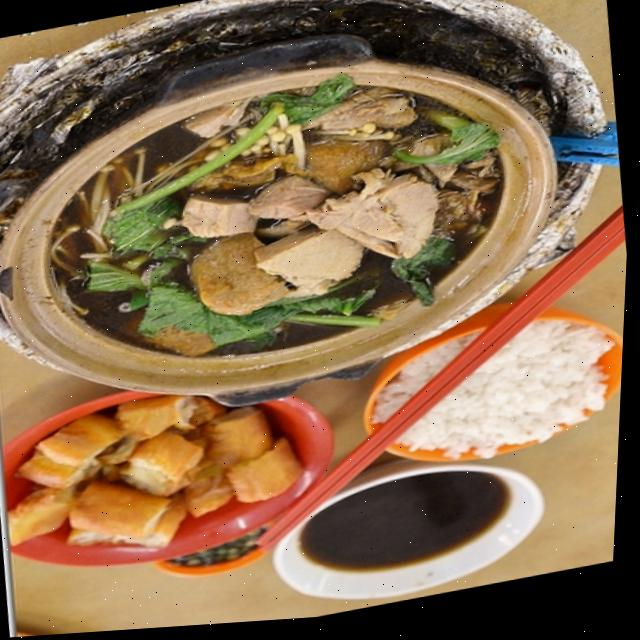汤锅炖物: (25, 47, 521, 388)
